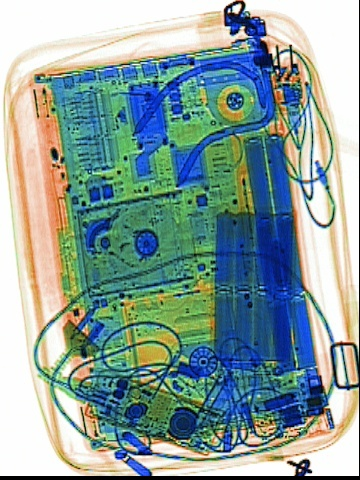powerbank: (208, 204, 298, 368)
